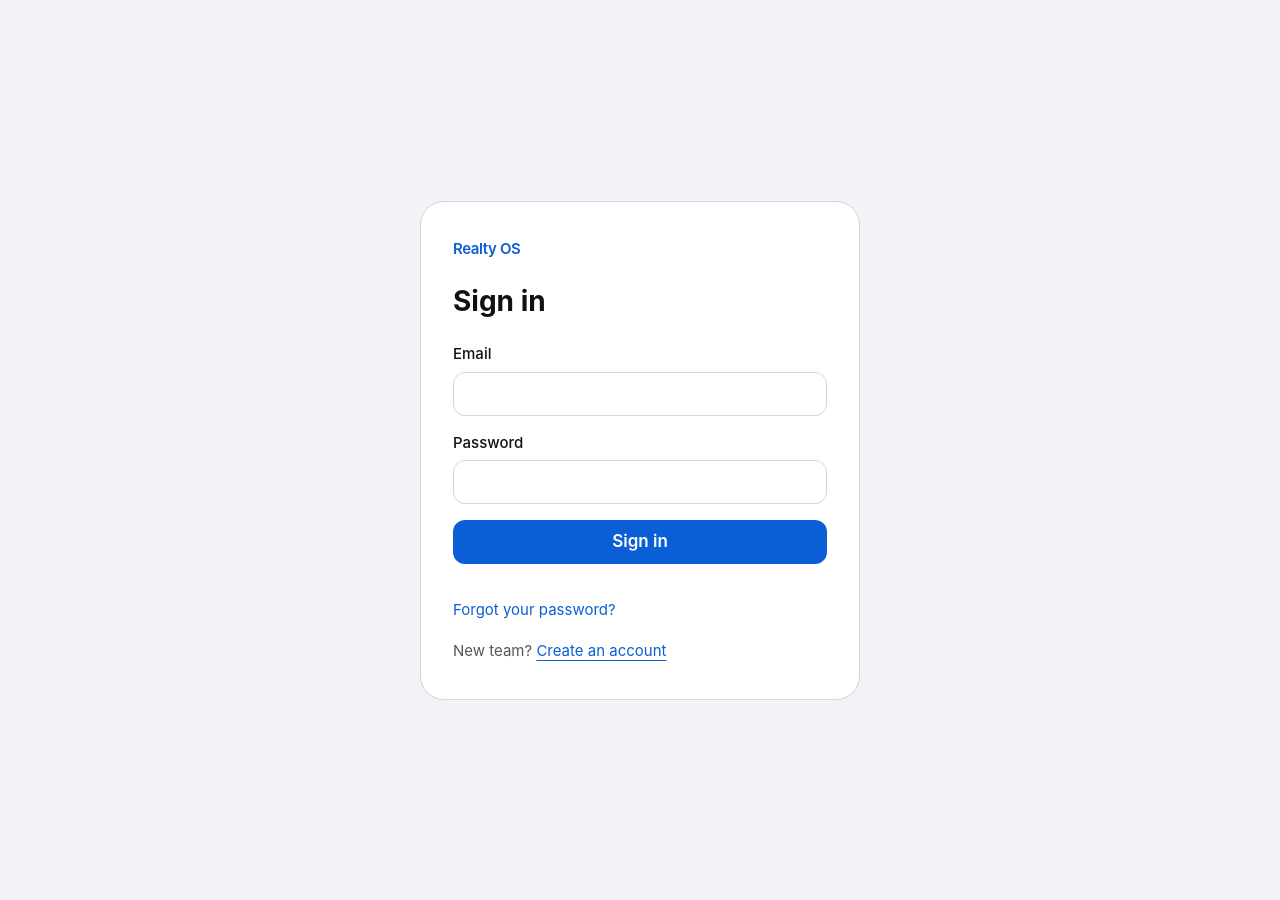
it: session gate › signed out: any app page goes to sign-in and comes back to it afterwards
expect the heading "Sign in" is shown: met, box [453, 284, 546, 318]
Type " ava@example.test " into the field labelled "Email". click: (640, 394)
box: [453, 372, 827, 416]
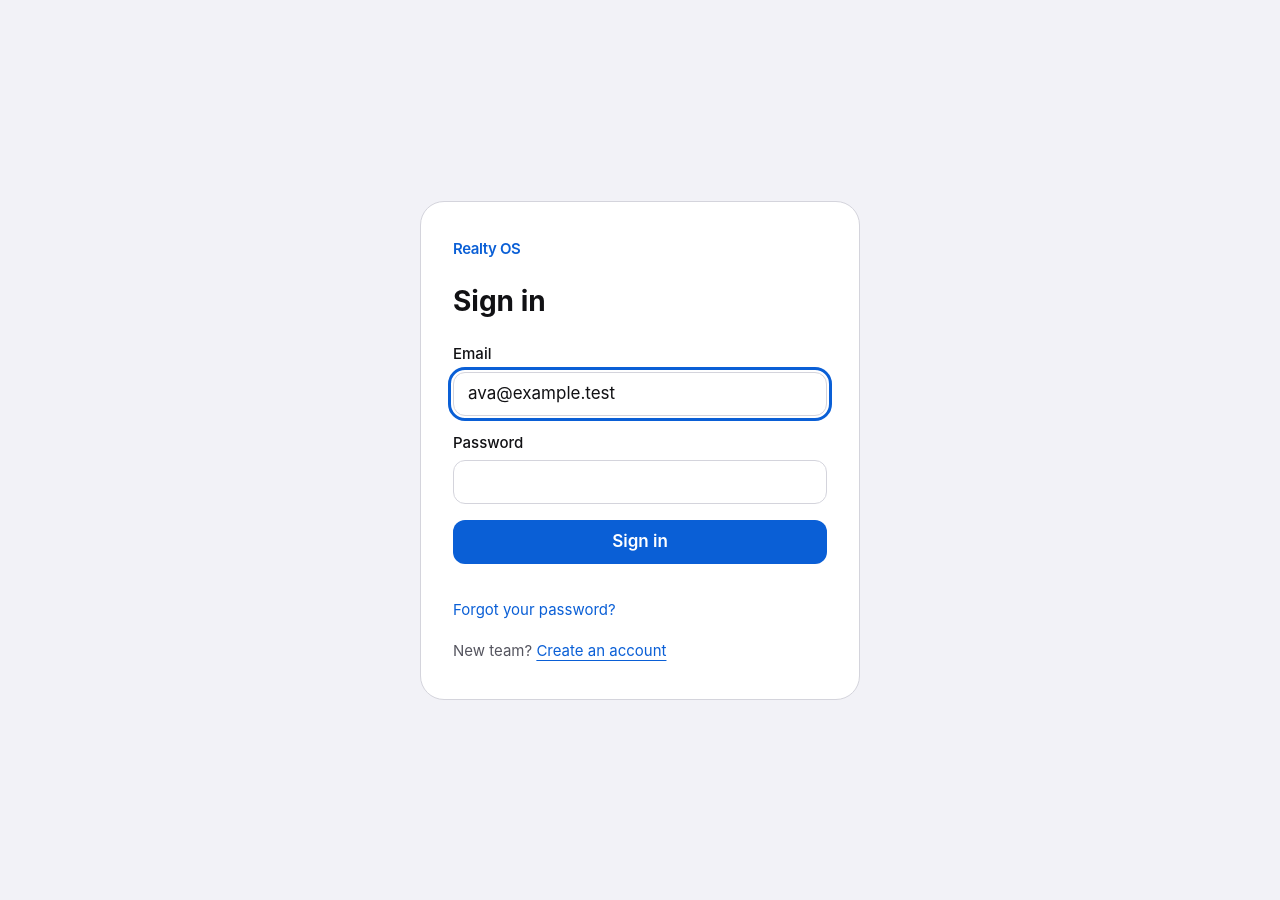
Type "correct horse battery staple" into the password field labelled "Password". click: (640, 482)
box: [453, 460, 827, 504]
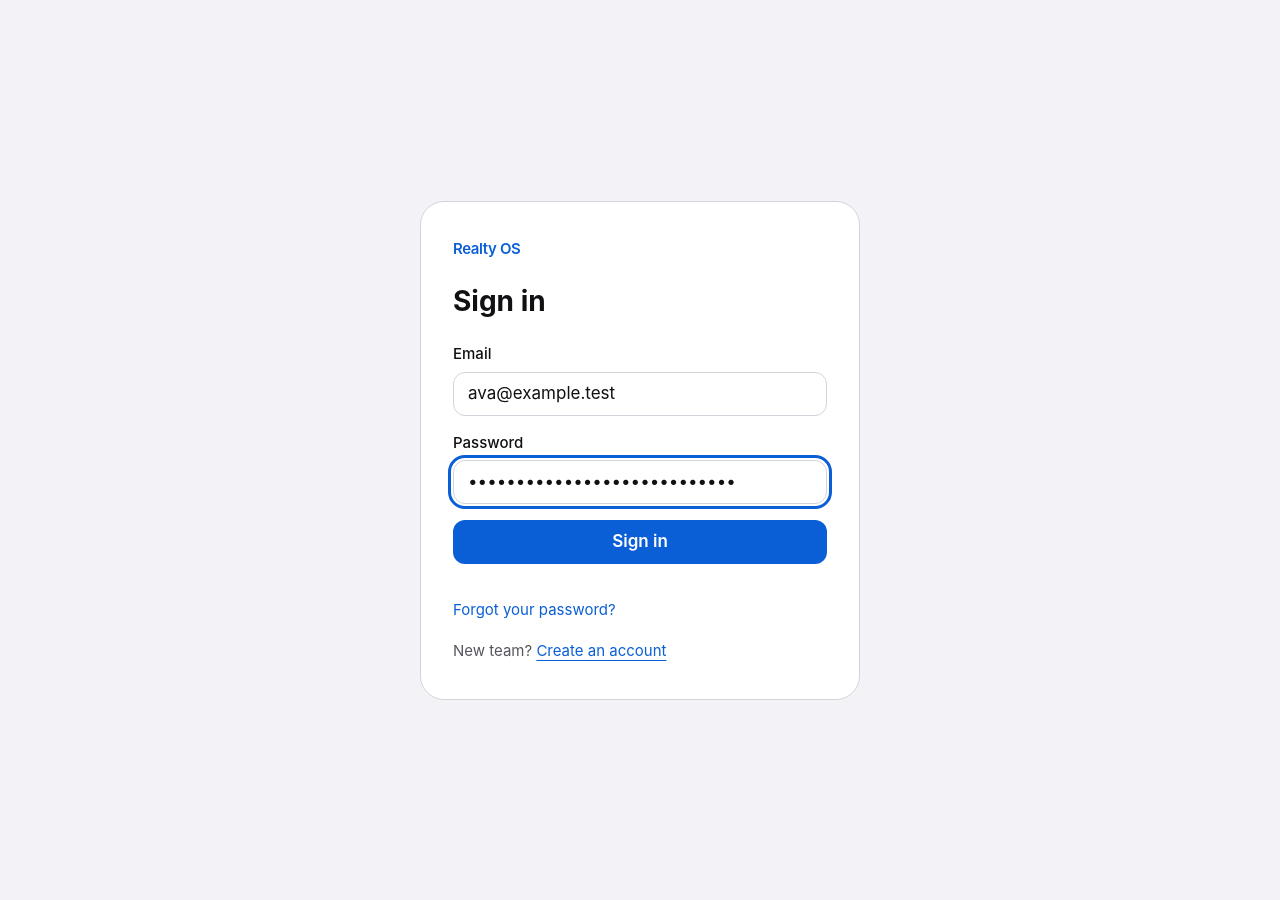
Click the button "Sign in". click: (640, 542)
box: [453, 520, 827, 564]
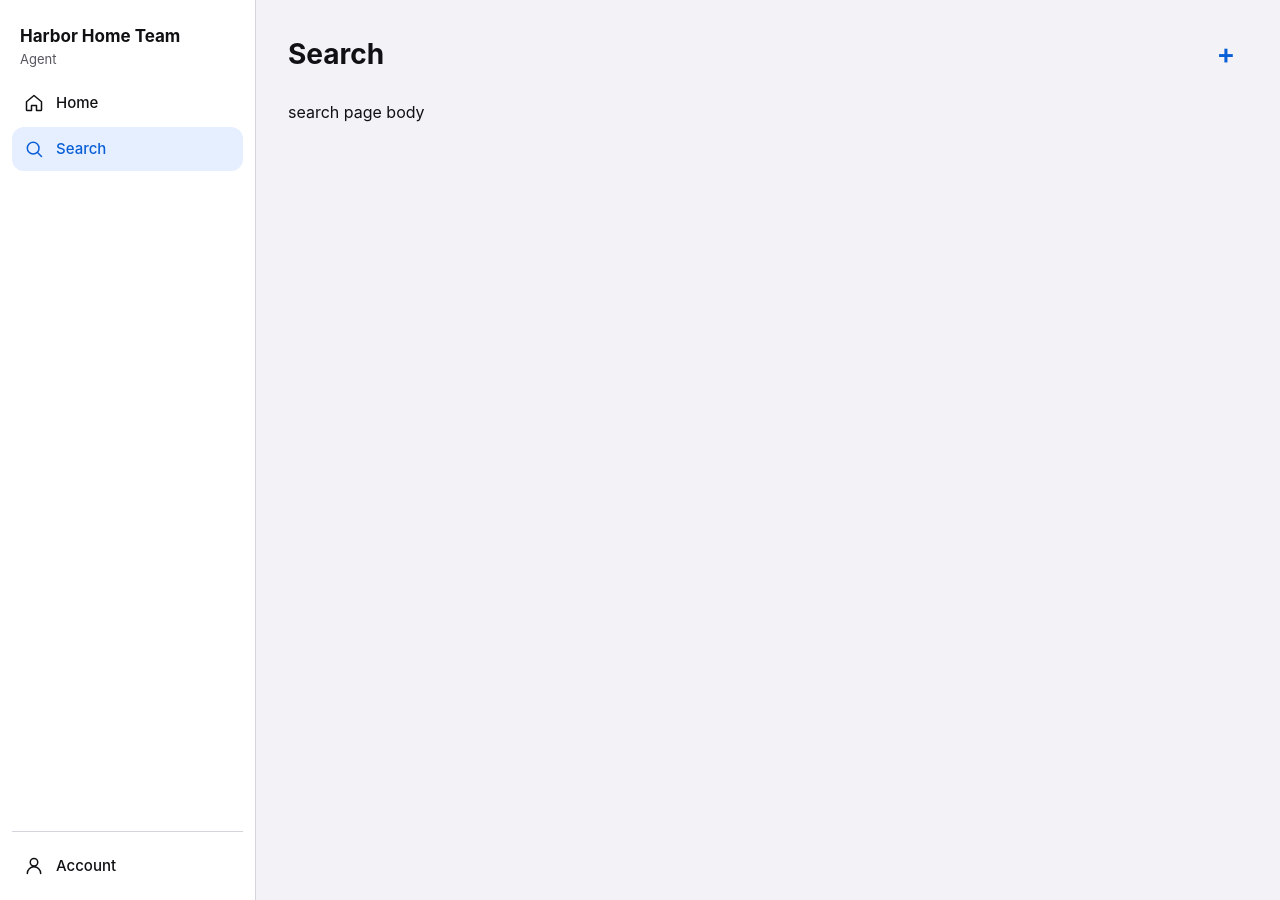
expect the text "search page body" is shown: met, box [288, 102, 425, 122]
